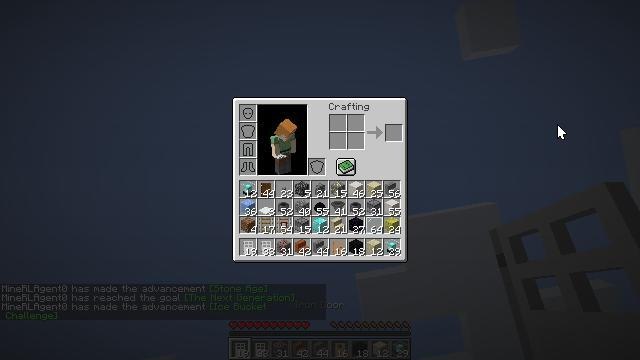cursor: (557, 124, 567, 140)
